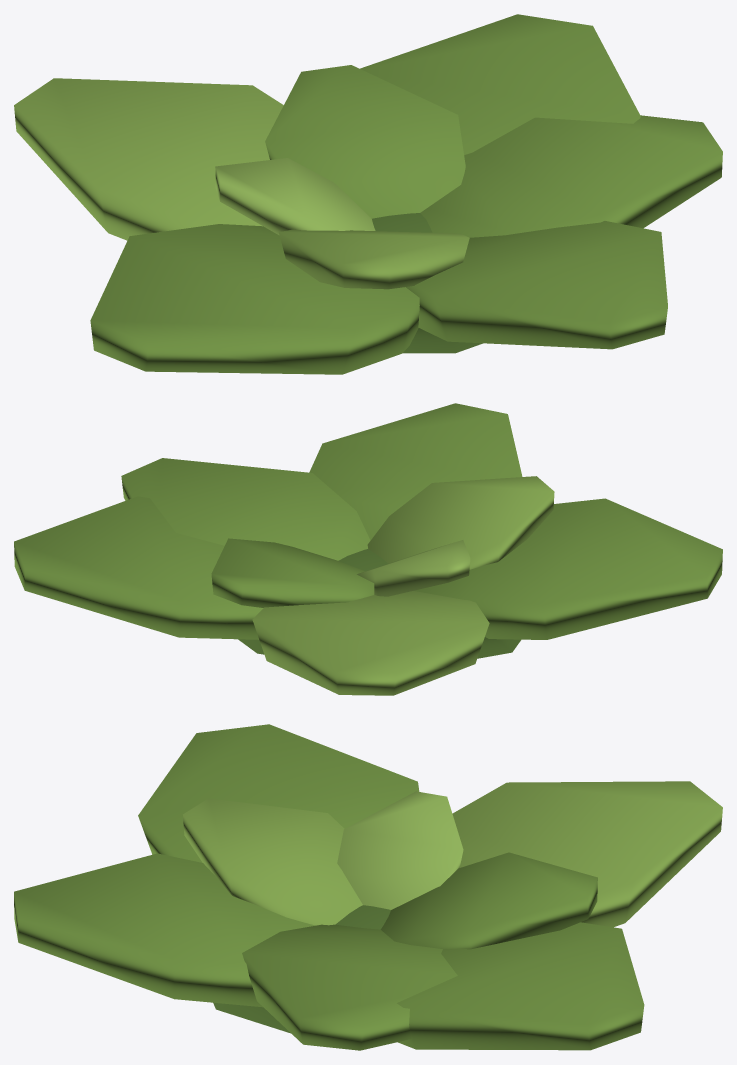
The model's file is large_hero_carpet_b.glb.
The picture shows the model from 3 angles, top to bottom: view 1: azimuth 30°, elevation 25°; view 2: azimuth 150°, elevation 25°; view 3: azimuth 270°, elevation 25°; orthographic projection. The views are drawn at different scales.
Visible parts, largest first — view 1: large_hero_carpet_b; view 2: large_hero_carpet_b; view 3: large_hero_carpet_b.
Part boxes in pixels (x1=…): large_hero_carpet_b: x1=14, y1=14, x2=722, y2=374; large_hero_carpet_b: x1=14, y1=403, x2=722, y2=695; large_hero_carpet_b: x1=14, y1=724, x2=722, y2=1050.
Size of the model in its own units: 0.4357 by 0.0694 by 0.4285.
